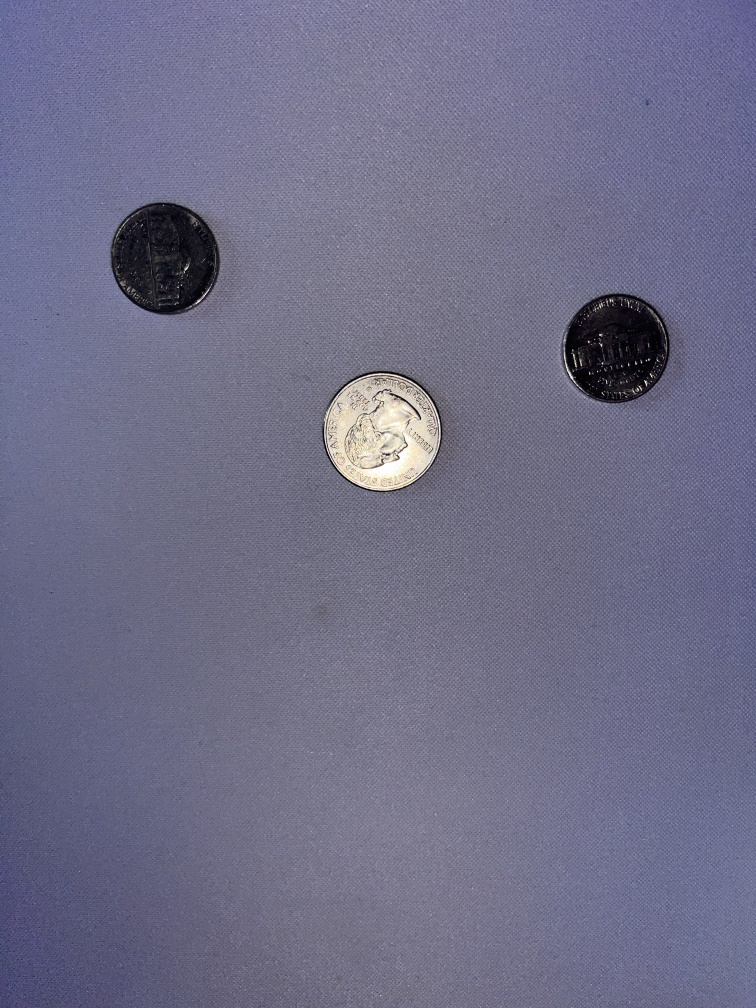nickel: (547, 287, 682, 413), (104, 201, 225, 318)
quarter: (318, 364, 450, 498)
